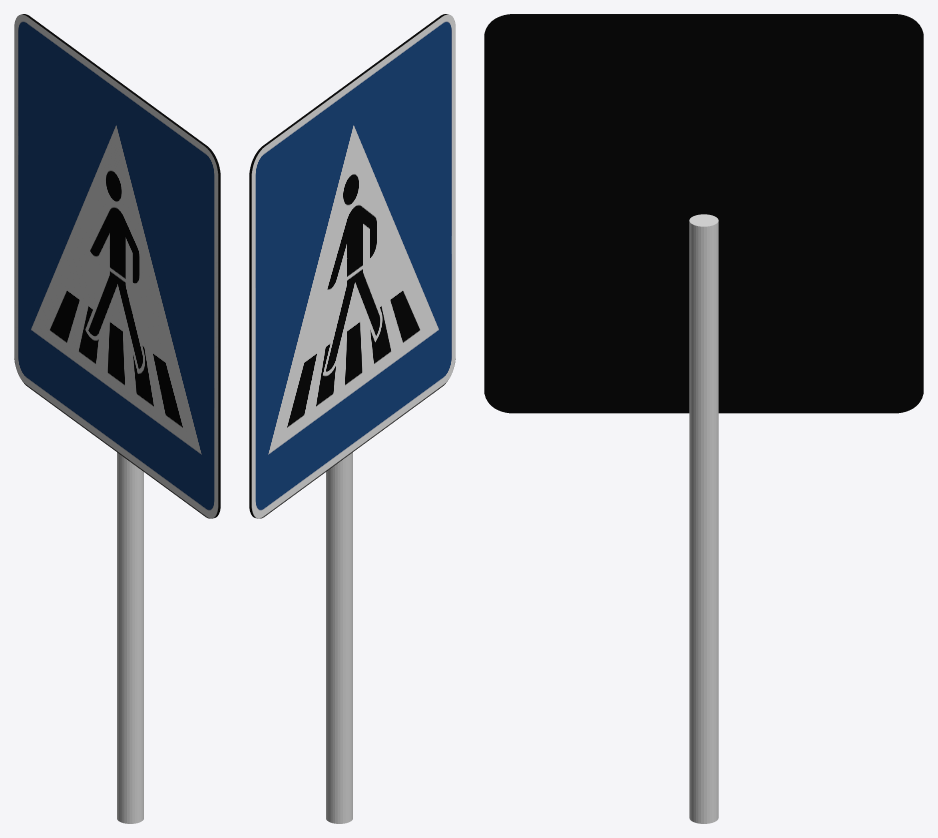
The model's file is zebra_crossing_sign.dae.
3 renders of one model, left to right at view 1: azimuth 30°, elevation 25°; view 2: azimuth 150°, elevation 25°; view 3: azimuth 270°, elevation 25°, orthographic. The views are drawn at different scales.
Visible parts, largest first — view 1: path3678, Cylinder; view 2: path3678, Cylinder; view 3: path3678, Cylinder.
Boxes of the visible parts, <box> form: path3678: <box>14,14,220,518</box>; Cylinder: <box>117,452,143,823</box>; path3678: <box>249,14,455,518</box>; Cylinder: <box>326,452,352,823</box>; path3678: <box>484,14,923,413</box>; Cylinder: <box>689,214,718,823</box>.
Size of the model in its own units: 0.011 by 0.15 by 0.3.
Materials: 3 (2 with a texture image).
